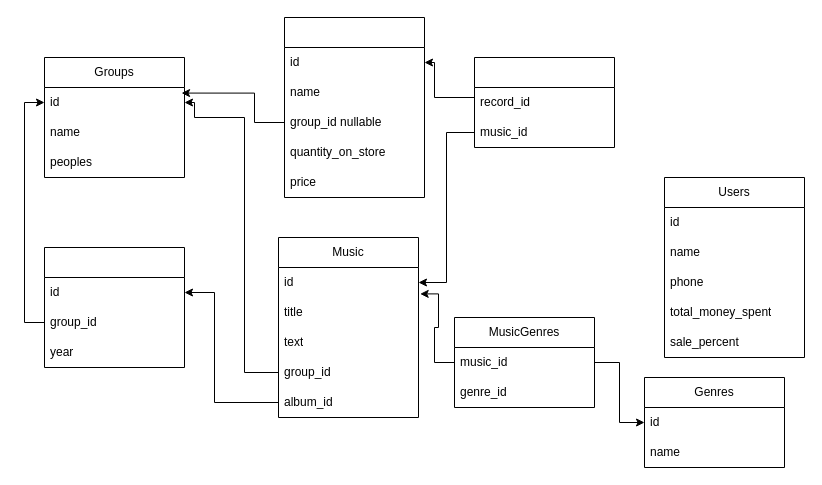
This 822x485 diagram has some shape labels left out. The shapes that lost their labels are listed below. From the top down, each one's box as (x1, y1, x2, y2) in pixels, then its label:
(284, 16, 424, 198): Records
(474, 56, 614, 148): RecordsMusics
(44, 246, 184, 368): Album
